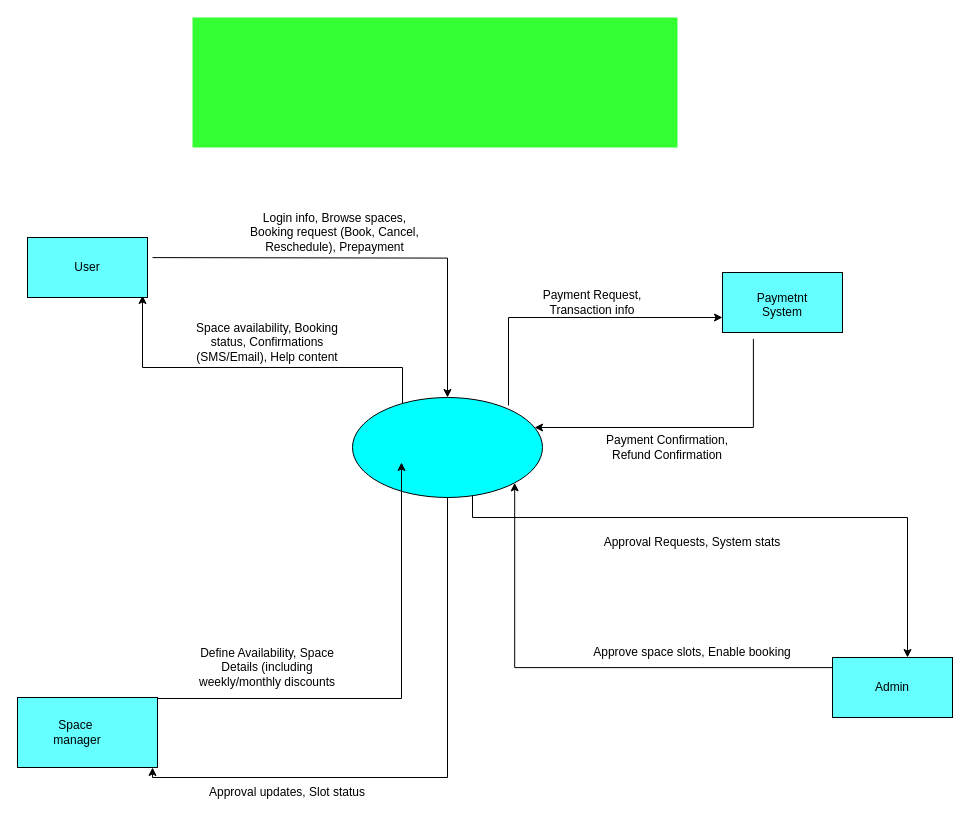
The diagram is 970 pixels wide and 824 high, and some of its shapes have lost their labels. The box of each missing label's shape, as (x1, y1, x2, y2) in pixels:
CONTEX DIAGRAM (DFD level 0): (192, 17, 677, 147)
Coworking Space Booking System: (352, 396, 542, 498)
